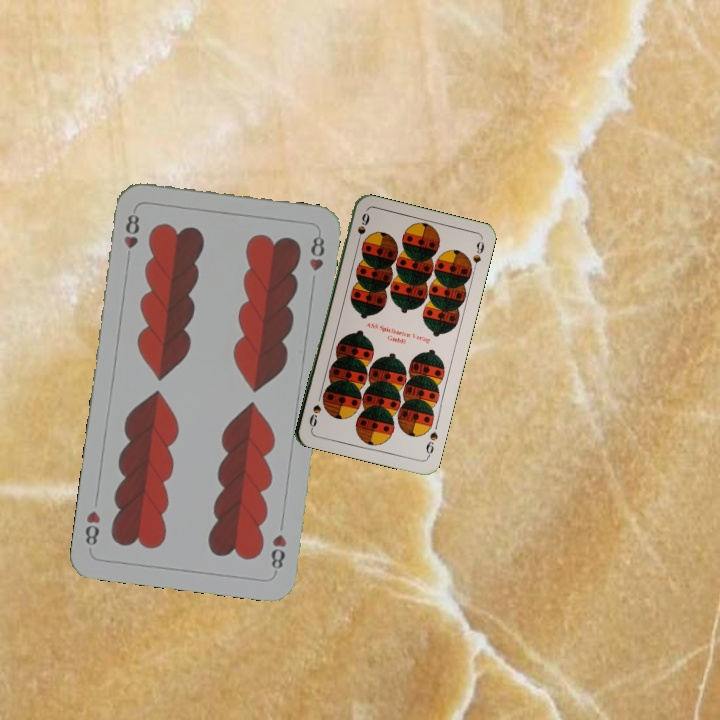H8: (120, 210, 142, 265), (267, 530, 289, 576)
S9: (353, 209, 372, 248), (422, 427, 441, 460)
